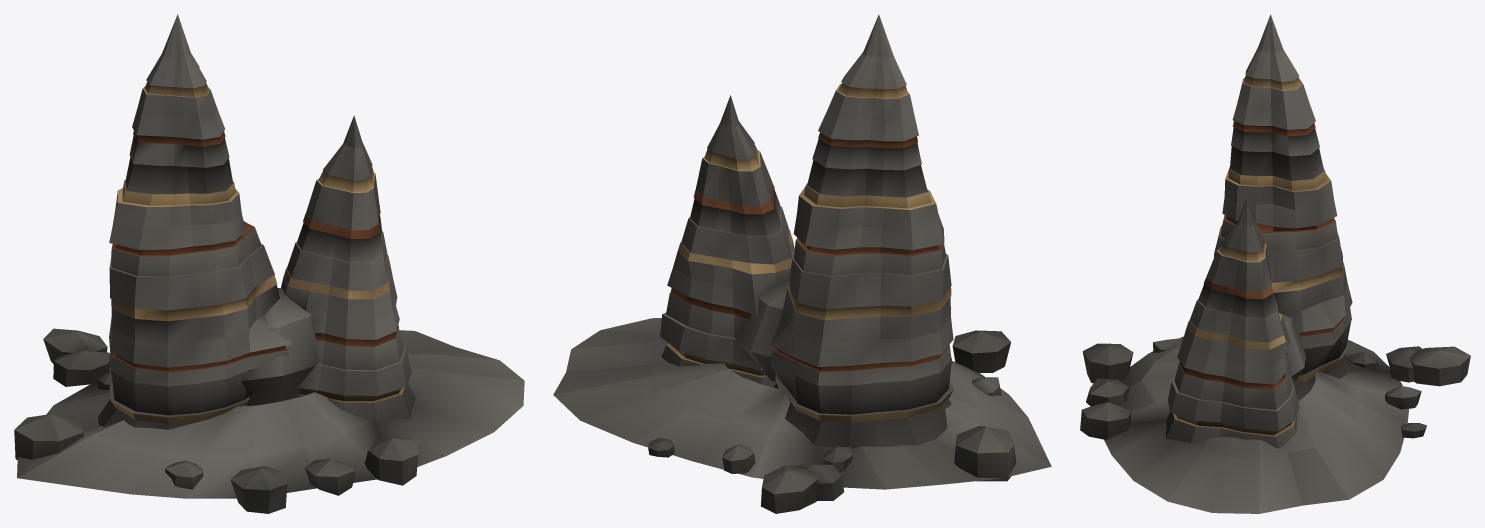
File: sea_stack_c.glb
3 views of the same model, side by side, from view 1: azimuth 30°, elevation 25°; view 2: azimuth 150°, elevation 25°; view 3: azimuth 270°, elevation 25° (orthographic). The views are drawn at different scales.
Visible parts, largest first — view 1: rock_grey, sand, dirt_red; view 2: rock_grey, sand, dirt_red; view 3: rock_grey, sand, dirt_red.
Part boxes in pixels (x1,y1,x2,y2): rock_grey: (14, 14, 524, 513); sand: (111, 82, 404, 423); dirt_red: (111, 131, 398, 372); rock_grey: (553, 14, 1051, 513); sand: (667, 83, 953, 422); dirt_red: (670, 132, 949, 371); rock_grey: (1080, 14, 1470, 513); sand: (1173, 75, 1346, 436); dirt_red: (1179, 121, 1349, 390).
Size of what is drawn, in the model's own units: 45.99 by 39 by 36.92.
